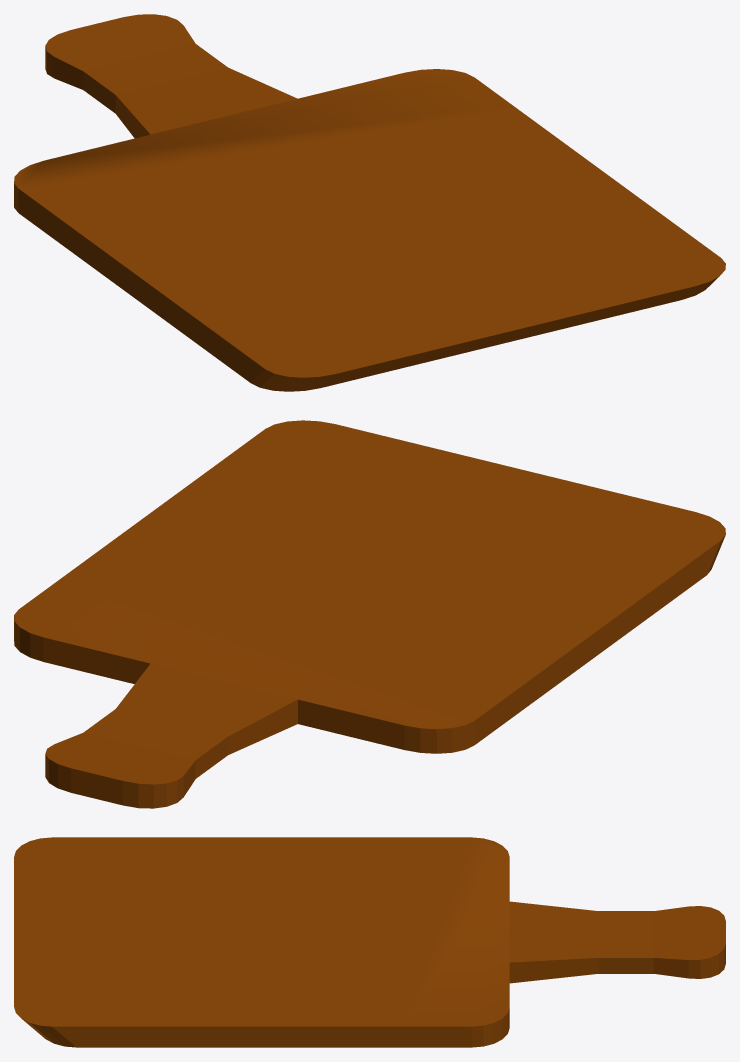
File: prepBoardUnwrapped.fbx
3 views of the same model, one above another, from view 1: azimuth 30°, elevation 25°; view 2: azimuth 150°, elevation 25°; view 3: azimuth 270°, elevation 25° (orthographic). The views are drawn at different scales.
Visible parts, largest first — view 1: Pizza_Prep_Board; view 2: Pizza_Prep_Board; view 3: Pizza_Prep_Board.
Boxes of the visible parts, x1,y1,x2,y2 form: Pizza_Prep_Board: (14, 14, 725, 391); Pizza_Prep_Board: (14, 420, 725, 808); Pizza_Prep_Board: (14, 837, 725, 1047).
Bounding box in the file's own units: 43.44 × 2.24 × 69.09.
